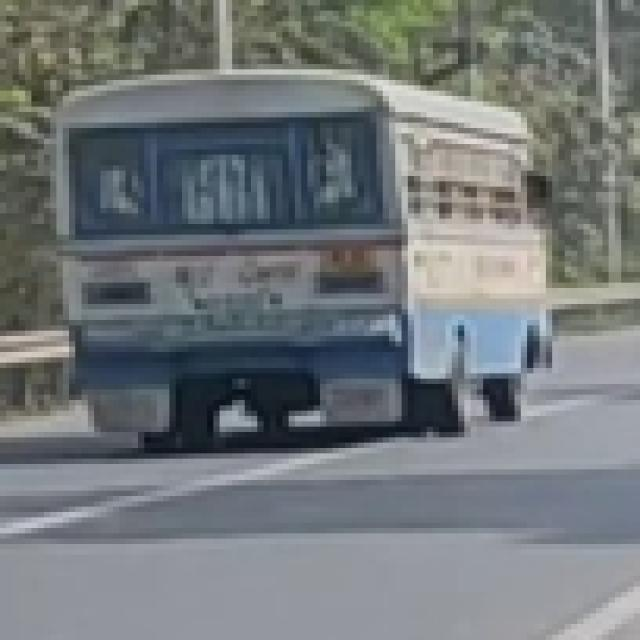bus: (51, 64, 558, 448)
